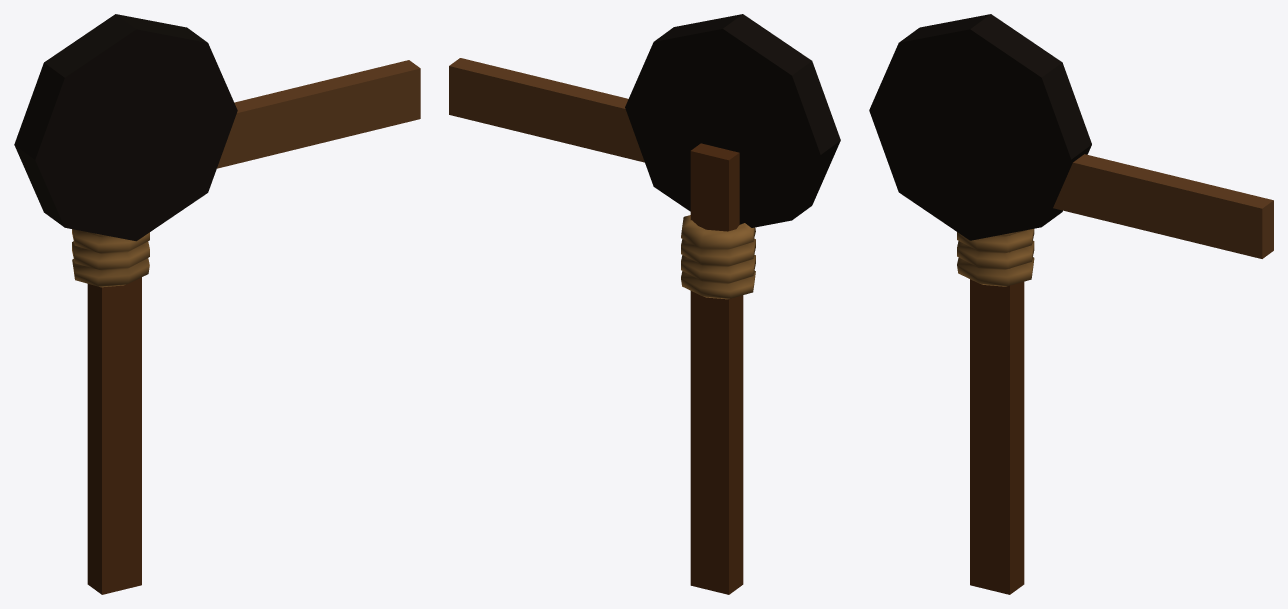
File: HeightSign.fbx
3 renders of one model, left to right at view 1: azimuth 30°, elevation 25°; view 2: azimuth 150°, elevation 25°; view 3: azimuth 330°, elevation 25°, orthographic. The views are drawn at different scales.
Parts seen in each view (by area): view 1: pCube4; view 2: pCube4; view 3: pCube4.
Part boxes in pixels (bbox=[...]): pCube4: bbox=[14, 14, 420, 594]; pCube4: bbox=[449, 14, 840, 594]; pCube4: bbox=[869, 14, 1273, 594].
Bounding box in the file's own units: 124 × 175 × 24.42.
